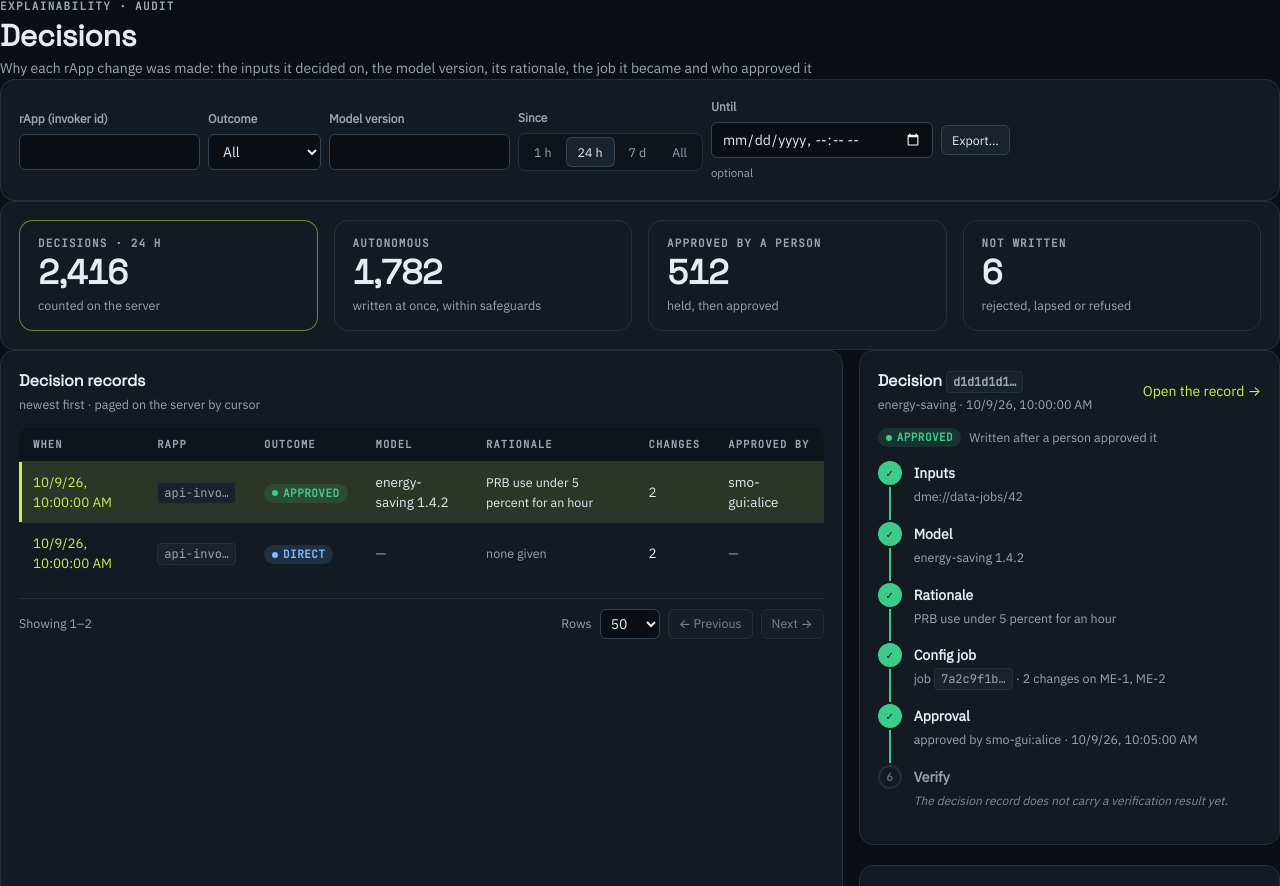
it: the decision list › offers no export to a viewer and says why an export was refused
The image size is (1280, 886).
What coordinates should you click on to do the following:
click the button "Export…"
I would click on:
 (975, 140)
Its box is top-left (941, 125), bottom-right (1010, 155).
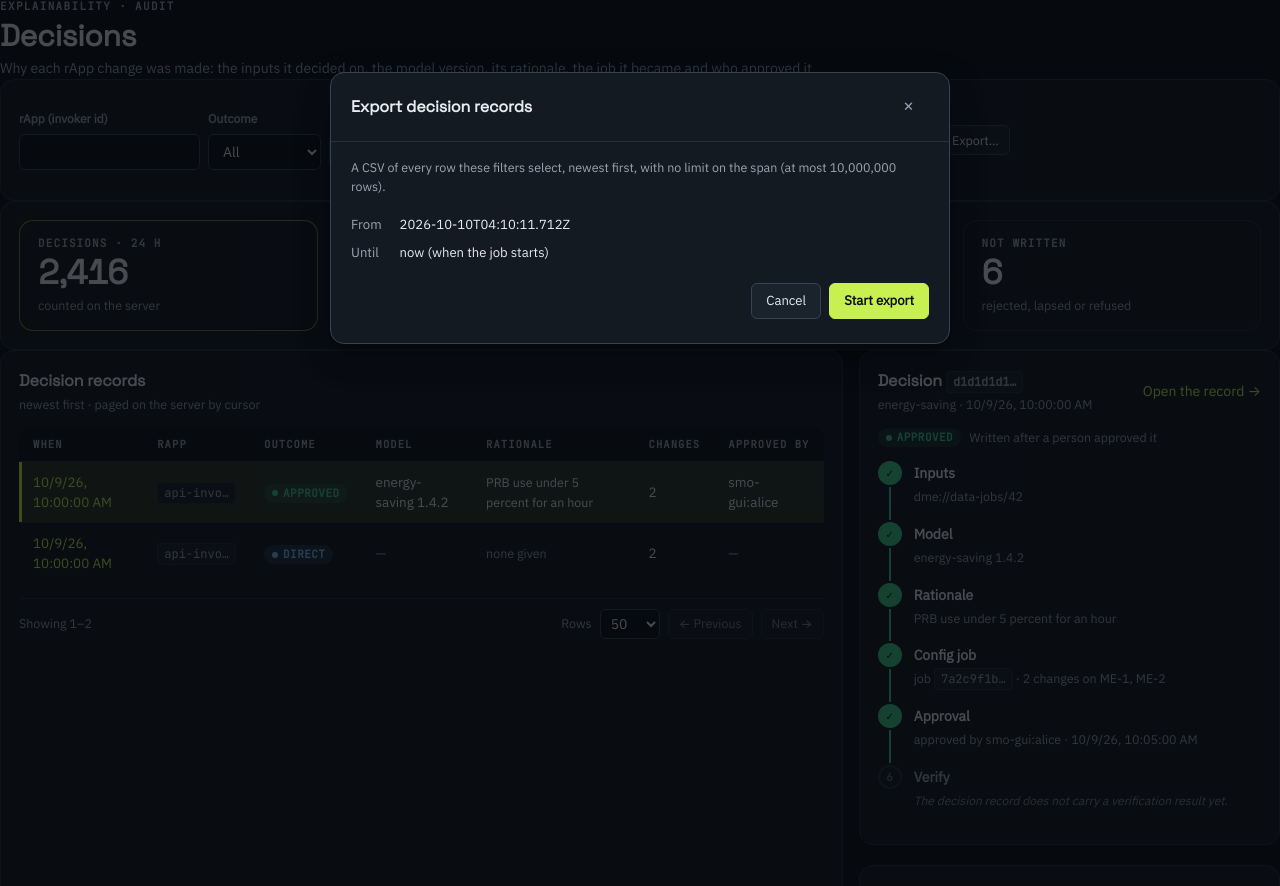
What coordinates should you click on to do the following:
click the button "Start export"
I would click on:
 (879, 301)
Its box is top-left (829, 283), bottom-right (929, 319).
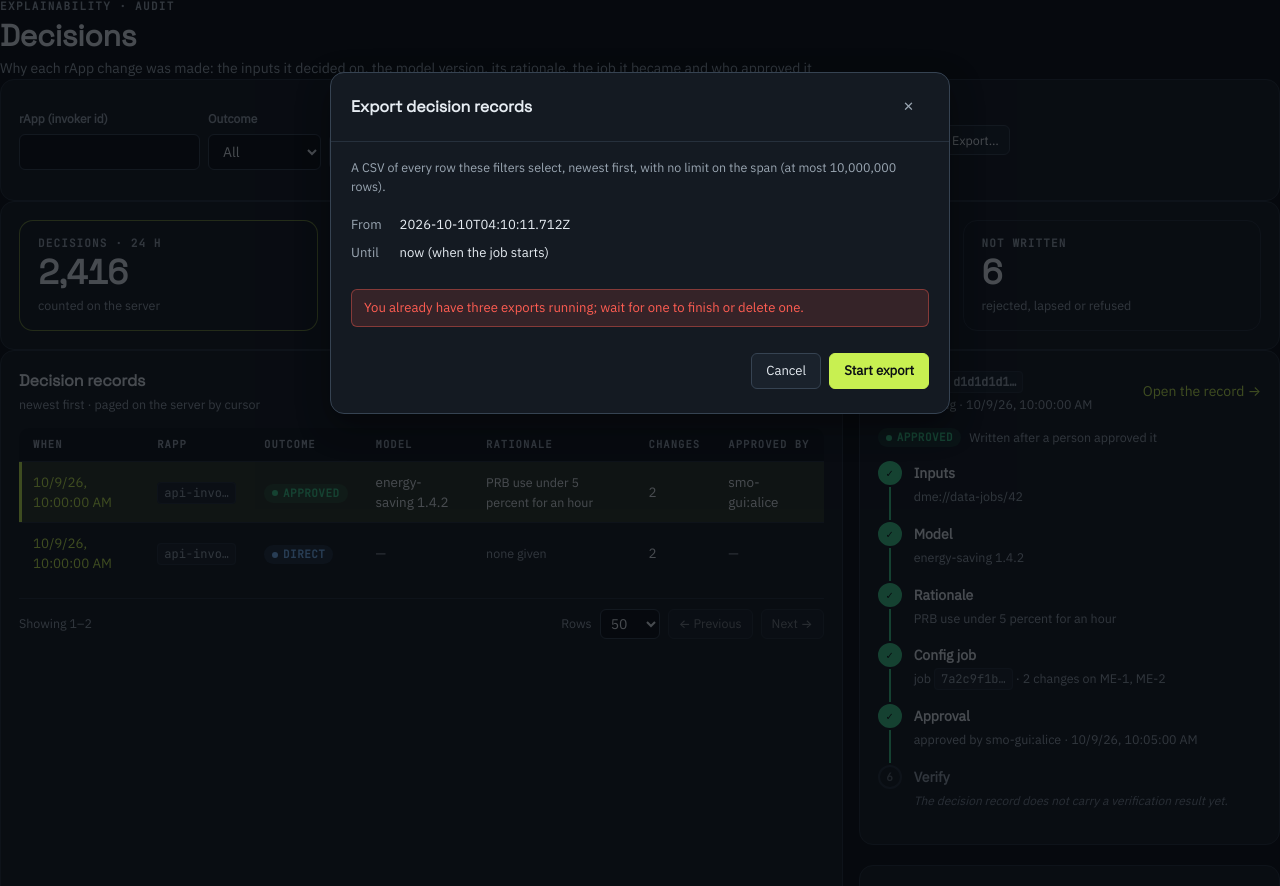
Check: the text "three exports running" is shown, box top-left (364, 299), bottom-right (804, 316)
